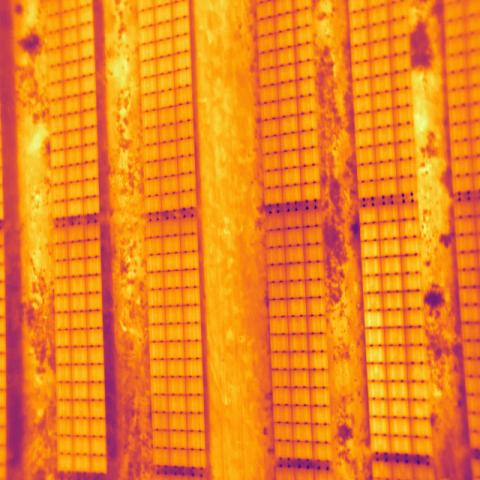fault: (367, 363, 388, 382)
